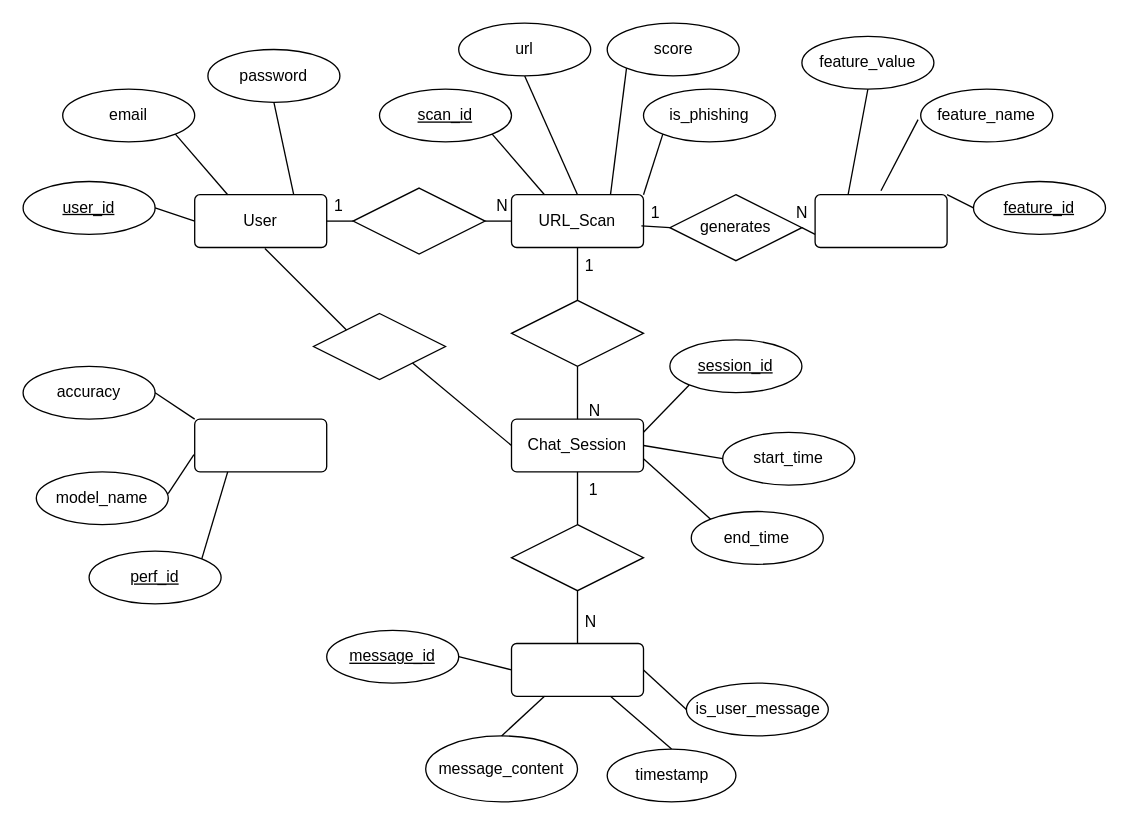
Some shapes in this 1129 by 825 pixel diagram are drawn without their labels. Each missing label, with the centre of its shape:
Chat_Message: the point at 577,669
contains: the point at 577,557
Feature: the point at 880,220
leads to: the point at 577,332
Model_Perf: the point at 260,445
participates: the point at 379,346
performs: the point at 418,220
